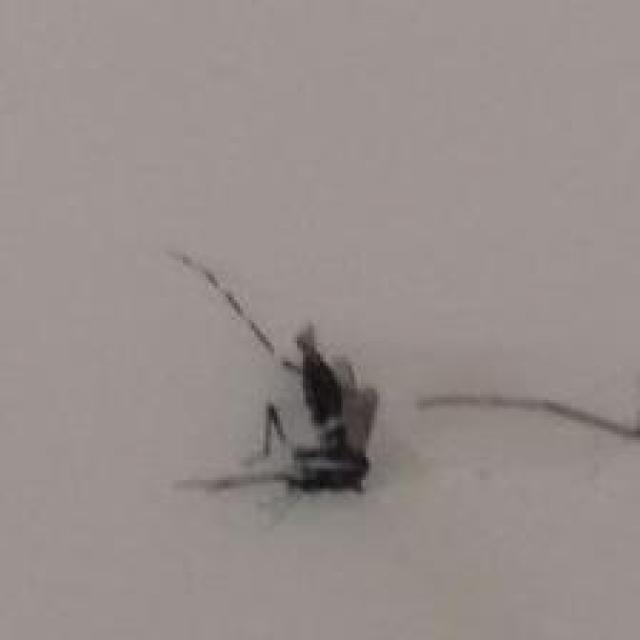Aedes albopictus: (167, 248, 382, 508)
